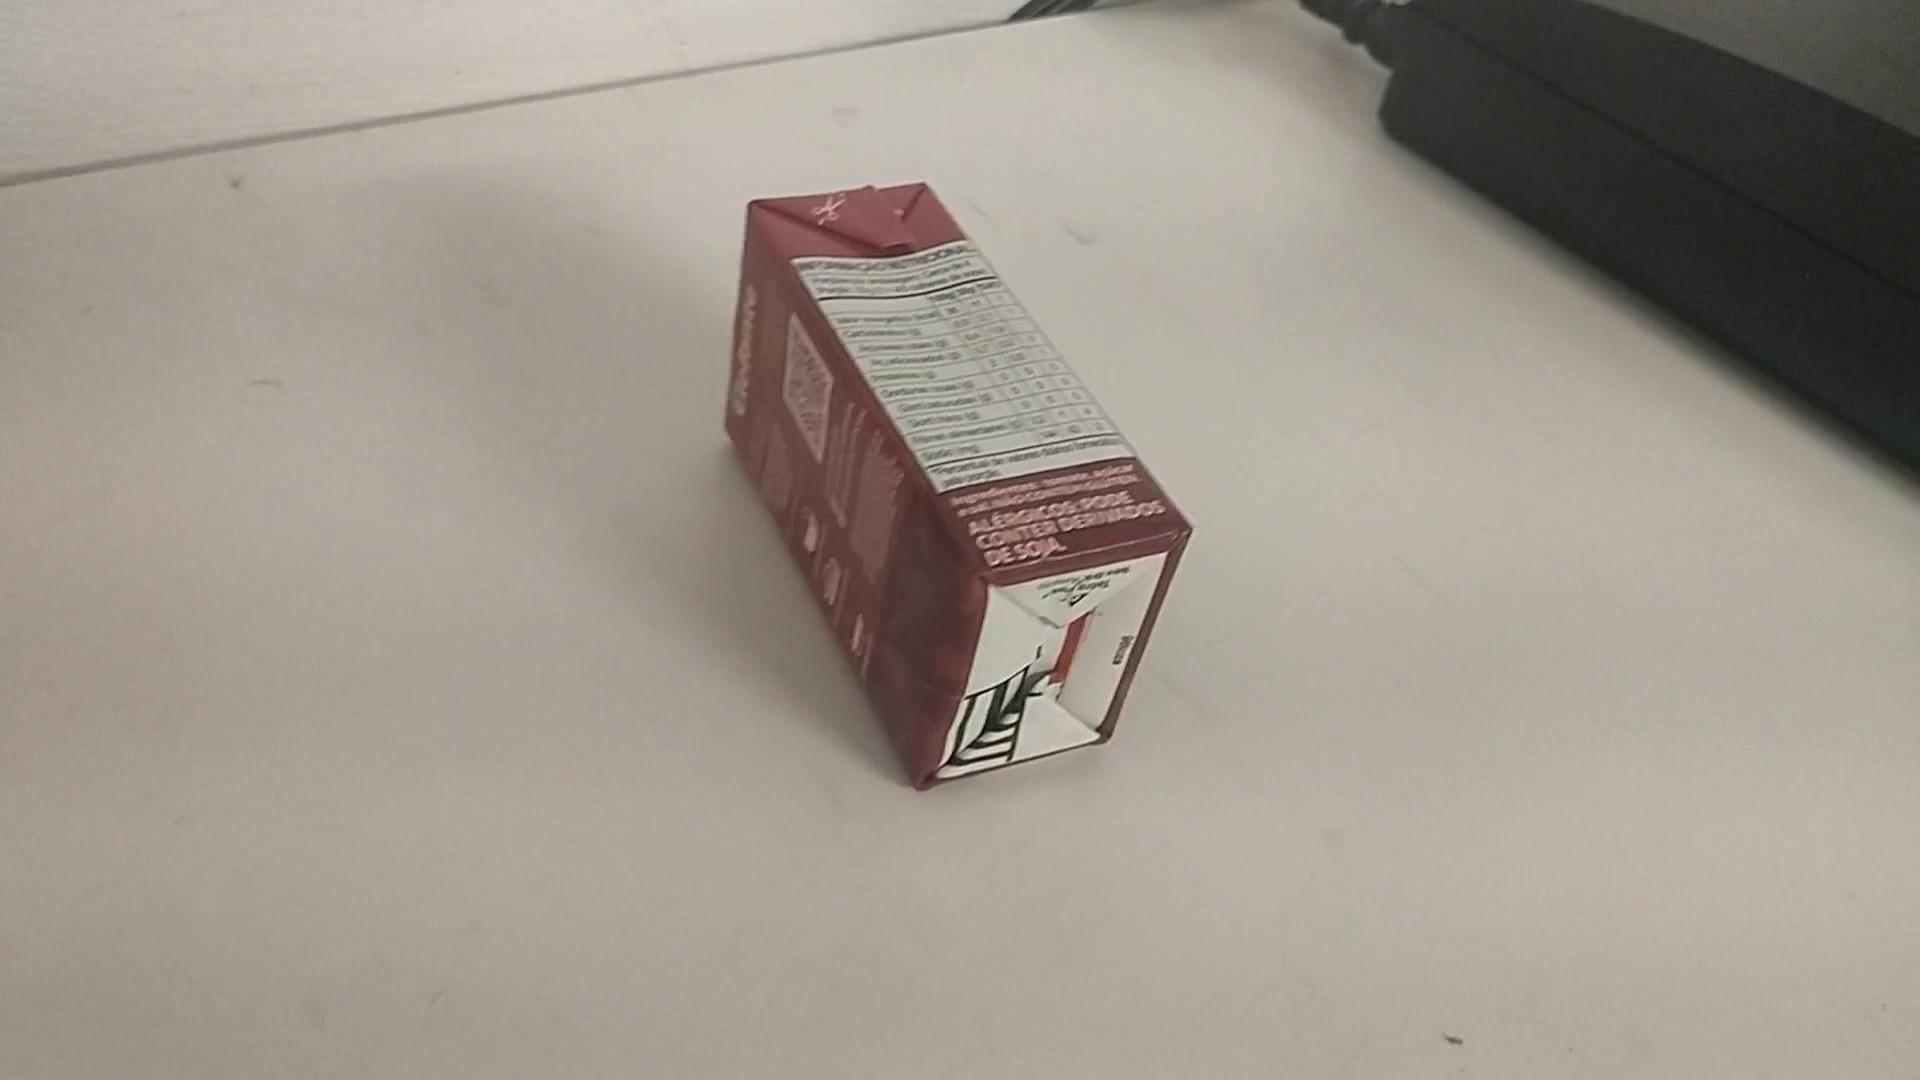tomate: (719, 182, 1197, 793)
